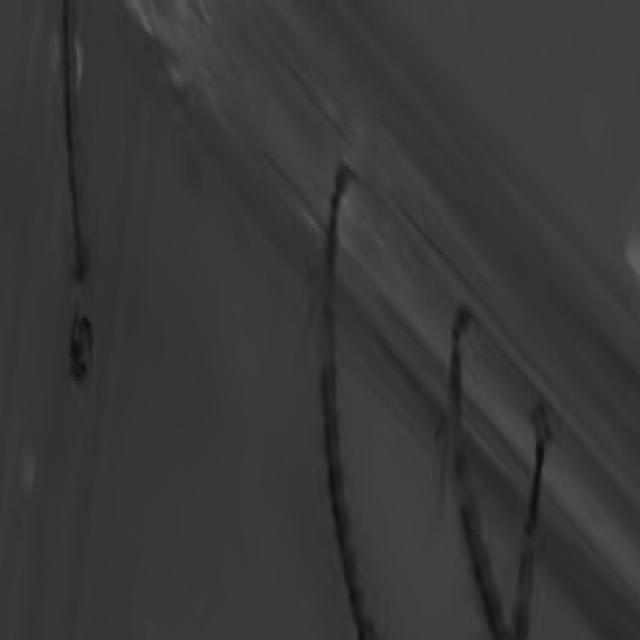larvas: (312, 166, 377, 640), (432, 315, 506, 635), (56, 0, 92, 379), (509, 423, 554, 640)
